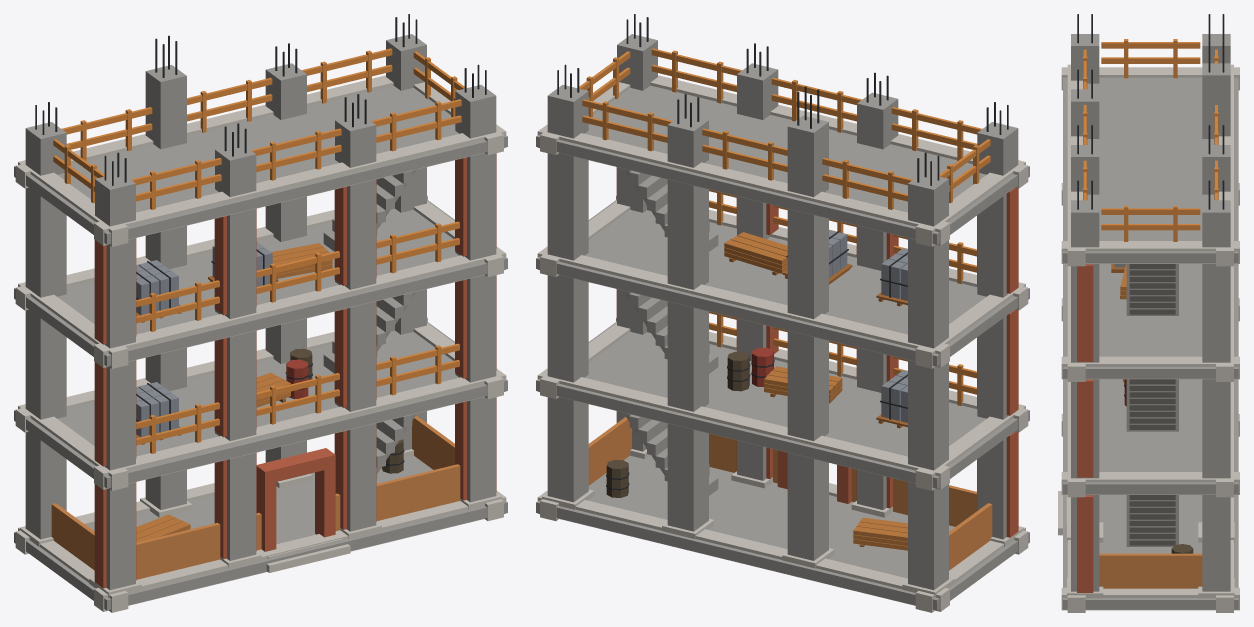
Rendered from building under construction.fbx.
3 views of the same model, side by side, from view 1: azimuth 30°, elevation 25°; view 2: azimuth 150°, elevation 25°; view 3: azimuth 270°, elevation 25° (orthographic). The views are drawn at different scales.
Visible parts, largest first — view 1: Column_-5.1_1.7; view 2: Column_-5.1_1.7; view 3: Column_-5.1_1.7.
Boxes of the visible parts, x1,y1,x2,y2 form: Column_-5.1_1.7: (14, 14, 507, 612); Column_-5.1_1.7: (536, 14, 1029, 612); Column_-5.1_1.7: (1058, 14, 1239, 612).
Size of the model in its own units: 1141 by 1298 by 471.
